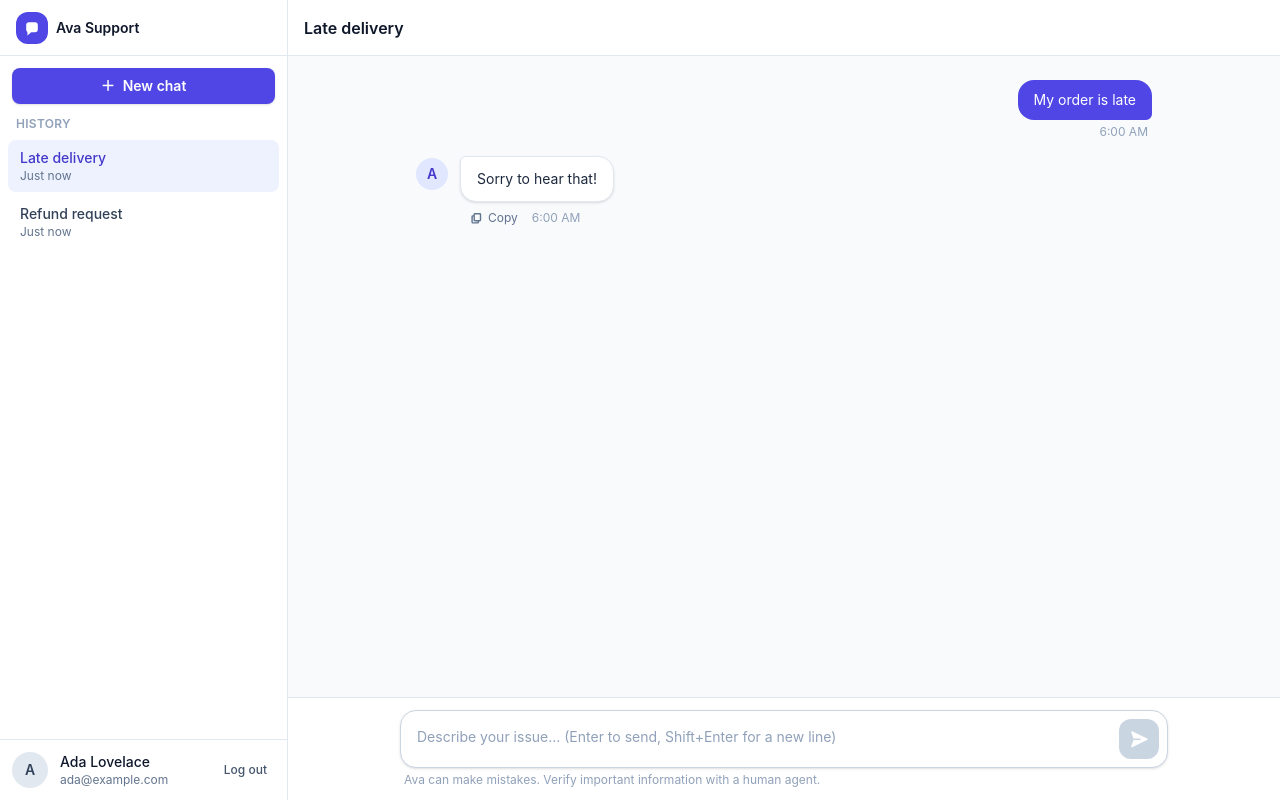
Test: Chat dashboard › marks a failed message and retries it with the same idempotency key
The image size is (1280, 800).
Expected: the text "Sorry to hear that!" is shown, [477, 169, 597, 189]
In the text box named "Message": (760, 739) [409, 719, 1111, 759], type "Hello?"
Then press Enter
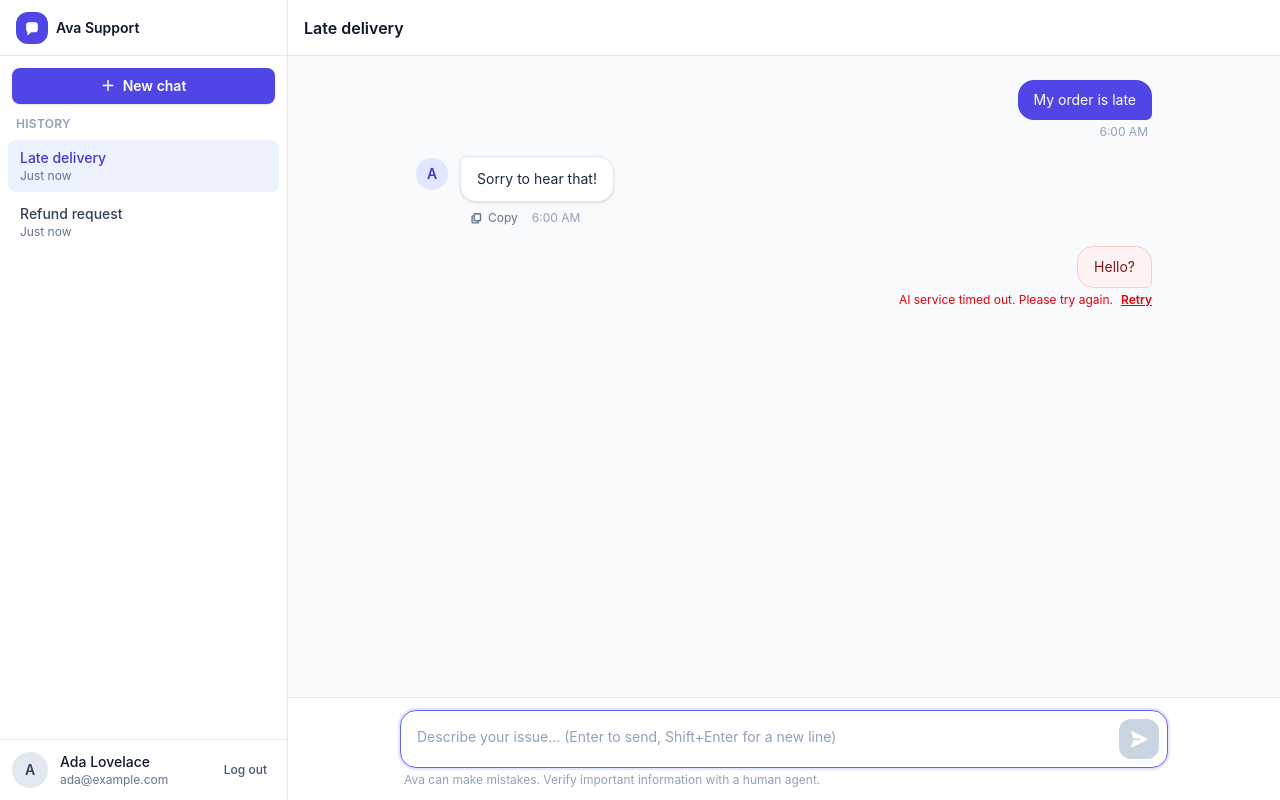
Now the text "AI service timed out. Please try again." is shown, box [899, 292, 1113, 308]
Click the button "Retry": (1136, 300) [1121, 292, 1152, 308]
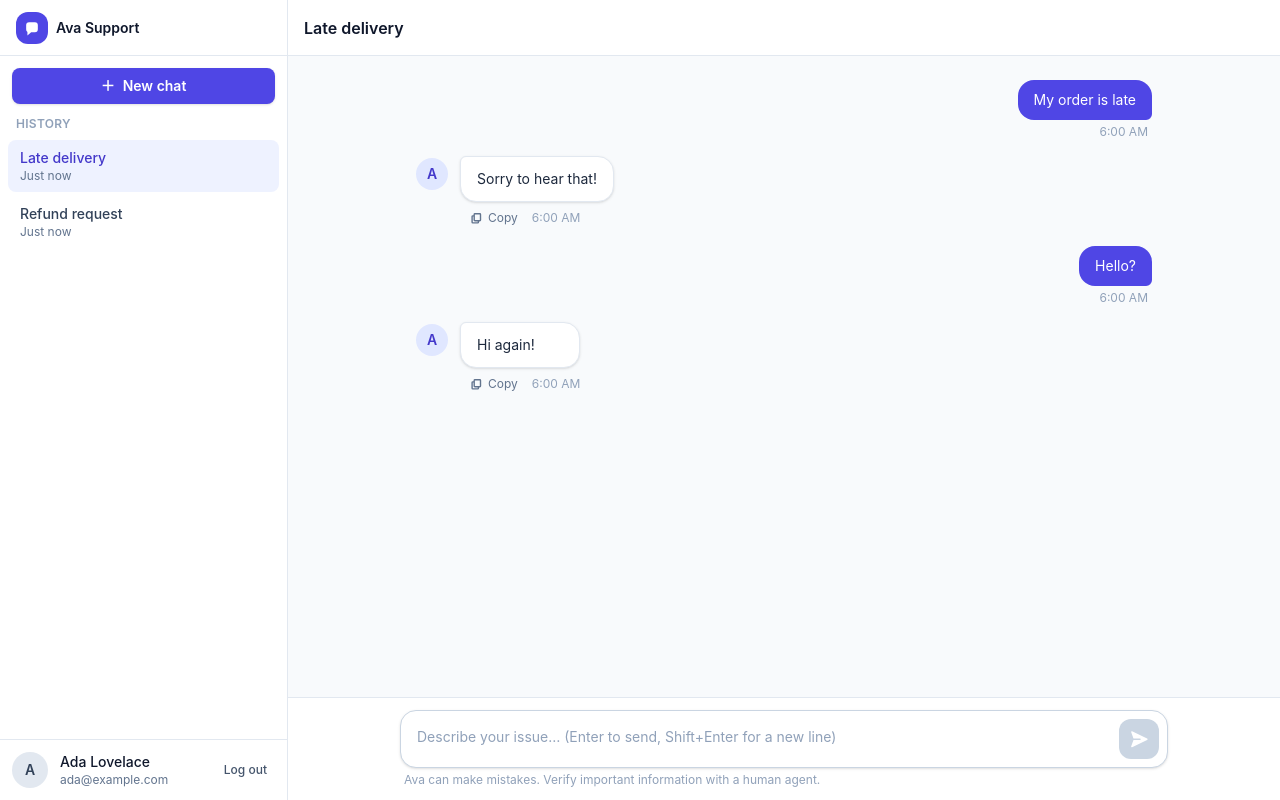
Now the text "Hello?" is shown once, box [1079, 246, 1152, 286]
Now the text "Hi again!" is shown, box [477, 336, 535, 353]
Now the text "AI service timed out. Please try again." is gone
